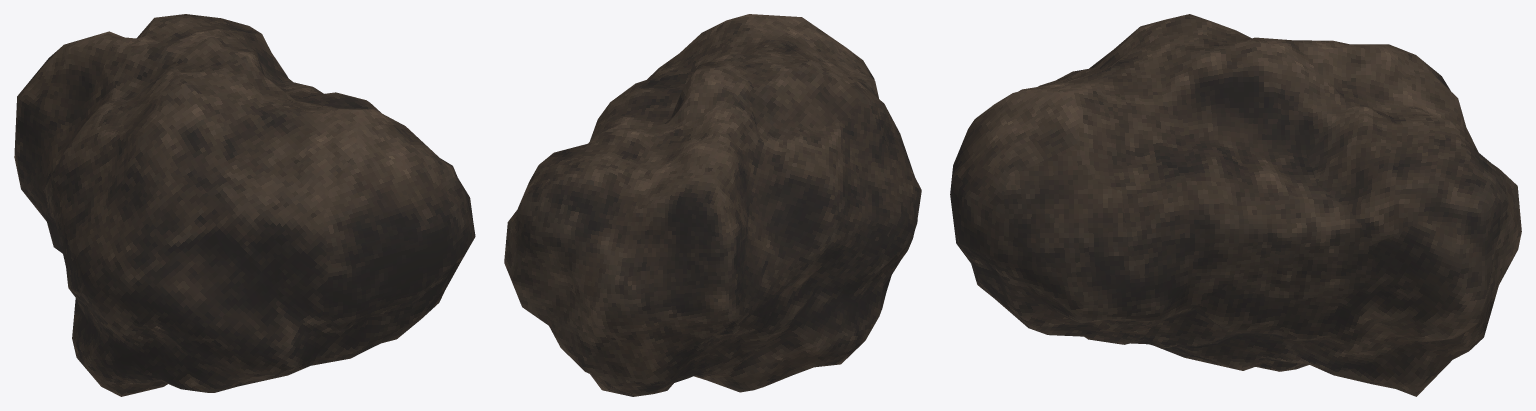
File: SM_RP2_Rock_4m_2.002.glb
3 renders of one model, left to right at view 1: azimuth 30°, elevation 25°; view 2: azimuth 150°, elevation 25°; view 3: azimuth 270°, elevation 25°, orthographic. The views are drawn at different scales.
Parts seen in each view (by area): view 1: SM_RP2_Rock_4m_2.002; view 2: SM_RP2_Rock_4m_2.002; view 3: SM_RP2_Rock_4m_2.002.
Part boxes in pixels (x1=…): SM_RP2_Rock_4m_2.002: x1=14, y1=14, x2=475, y2=396; SM_RP2_Rock_4m_2.002: x1=504, y1=14, x2=921, y2=396; SM_RP2_Rock_4m_2.002: x1=950, y1=14, x2=1521, y2=396.
Bounding box in the file's own units: 5.32 × 4.96 × 7.47.
1 material, 1 textured.
